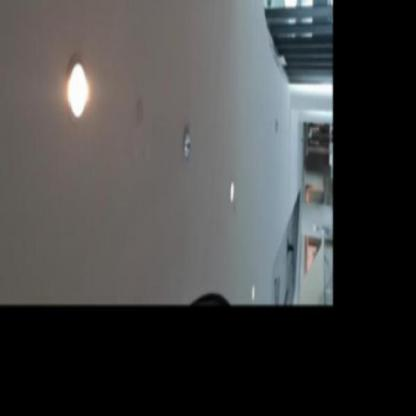light_on: (59, 48, 102, 129)
